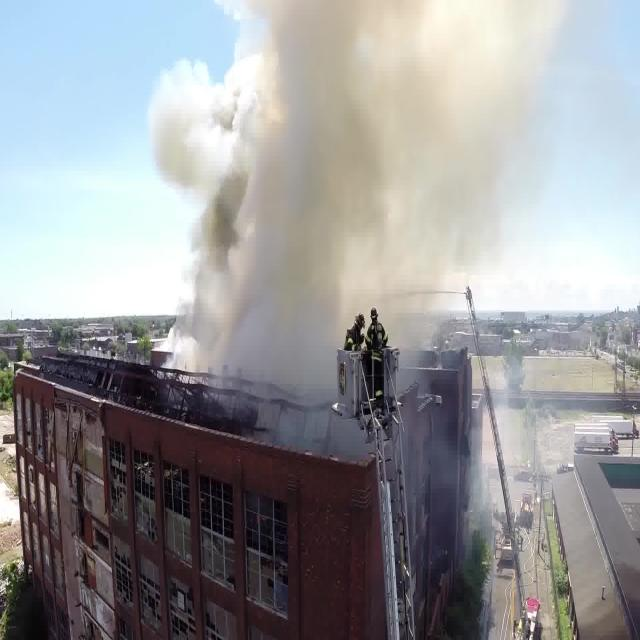Smoke: (198, 0, 586, 406)
